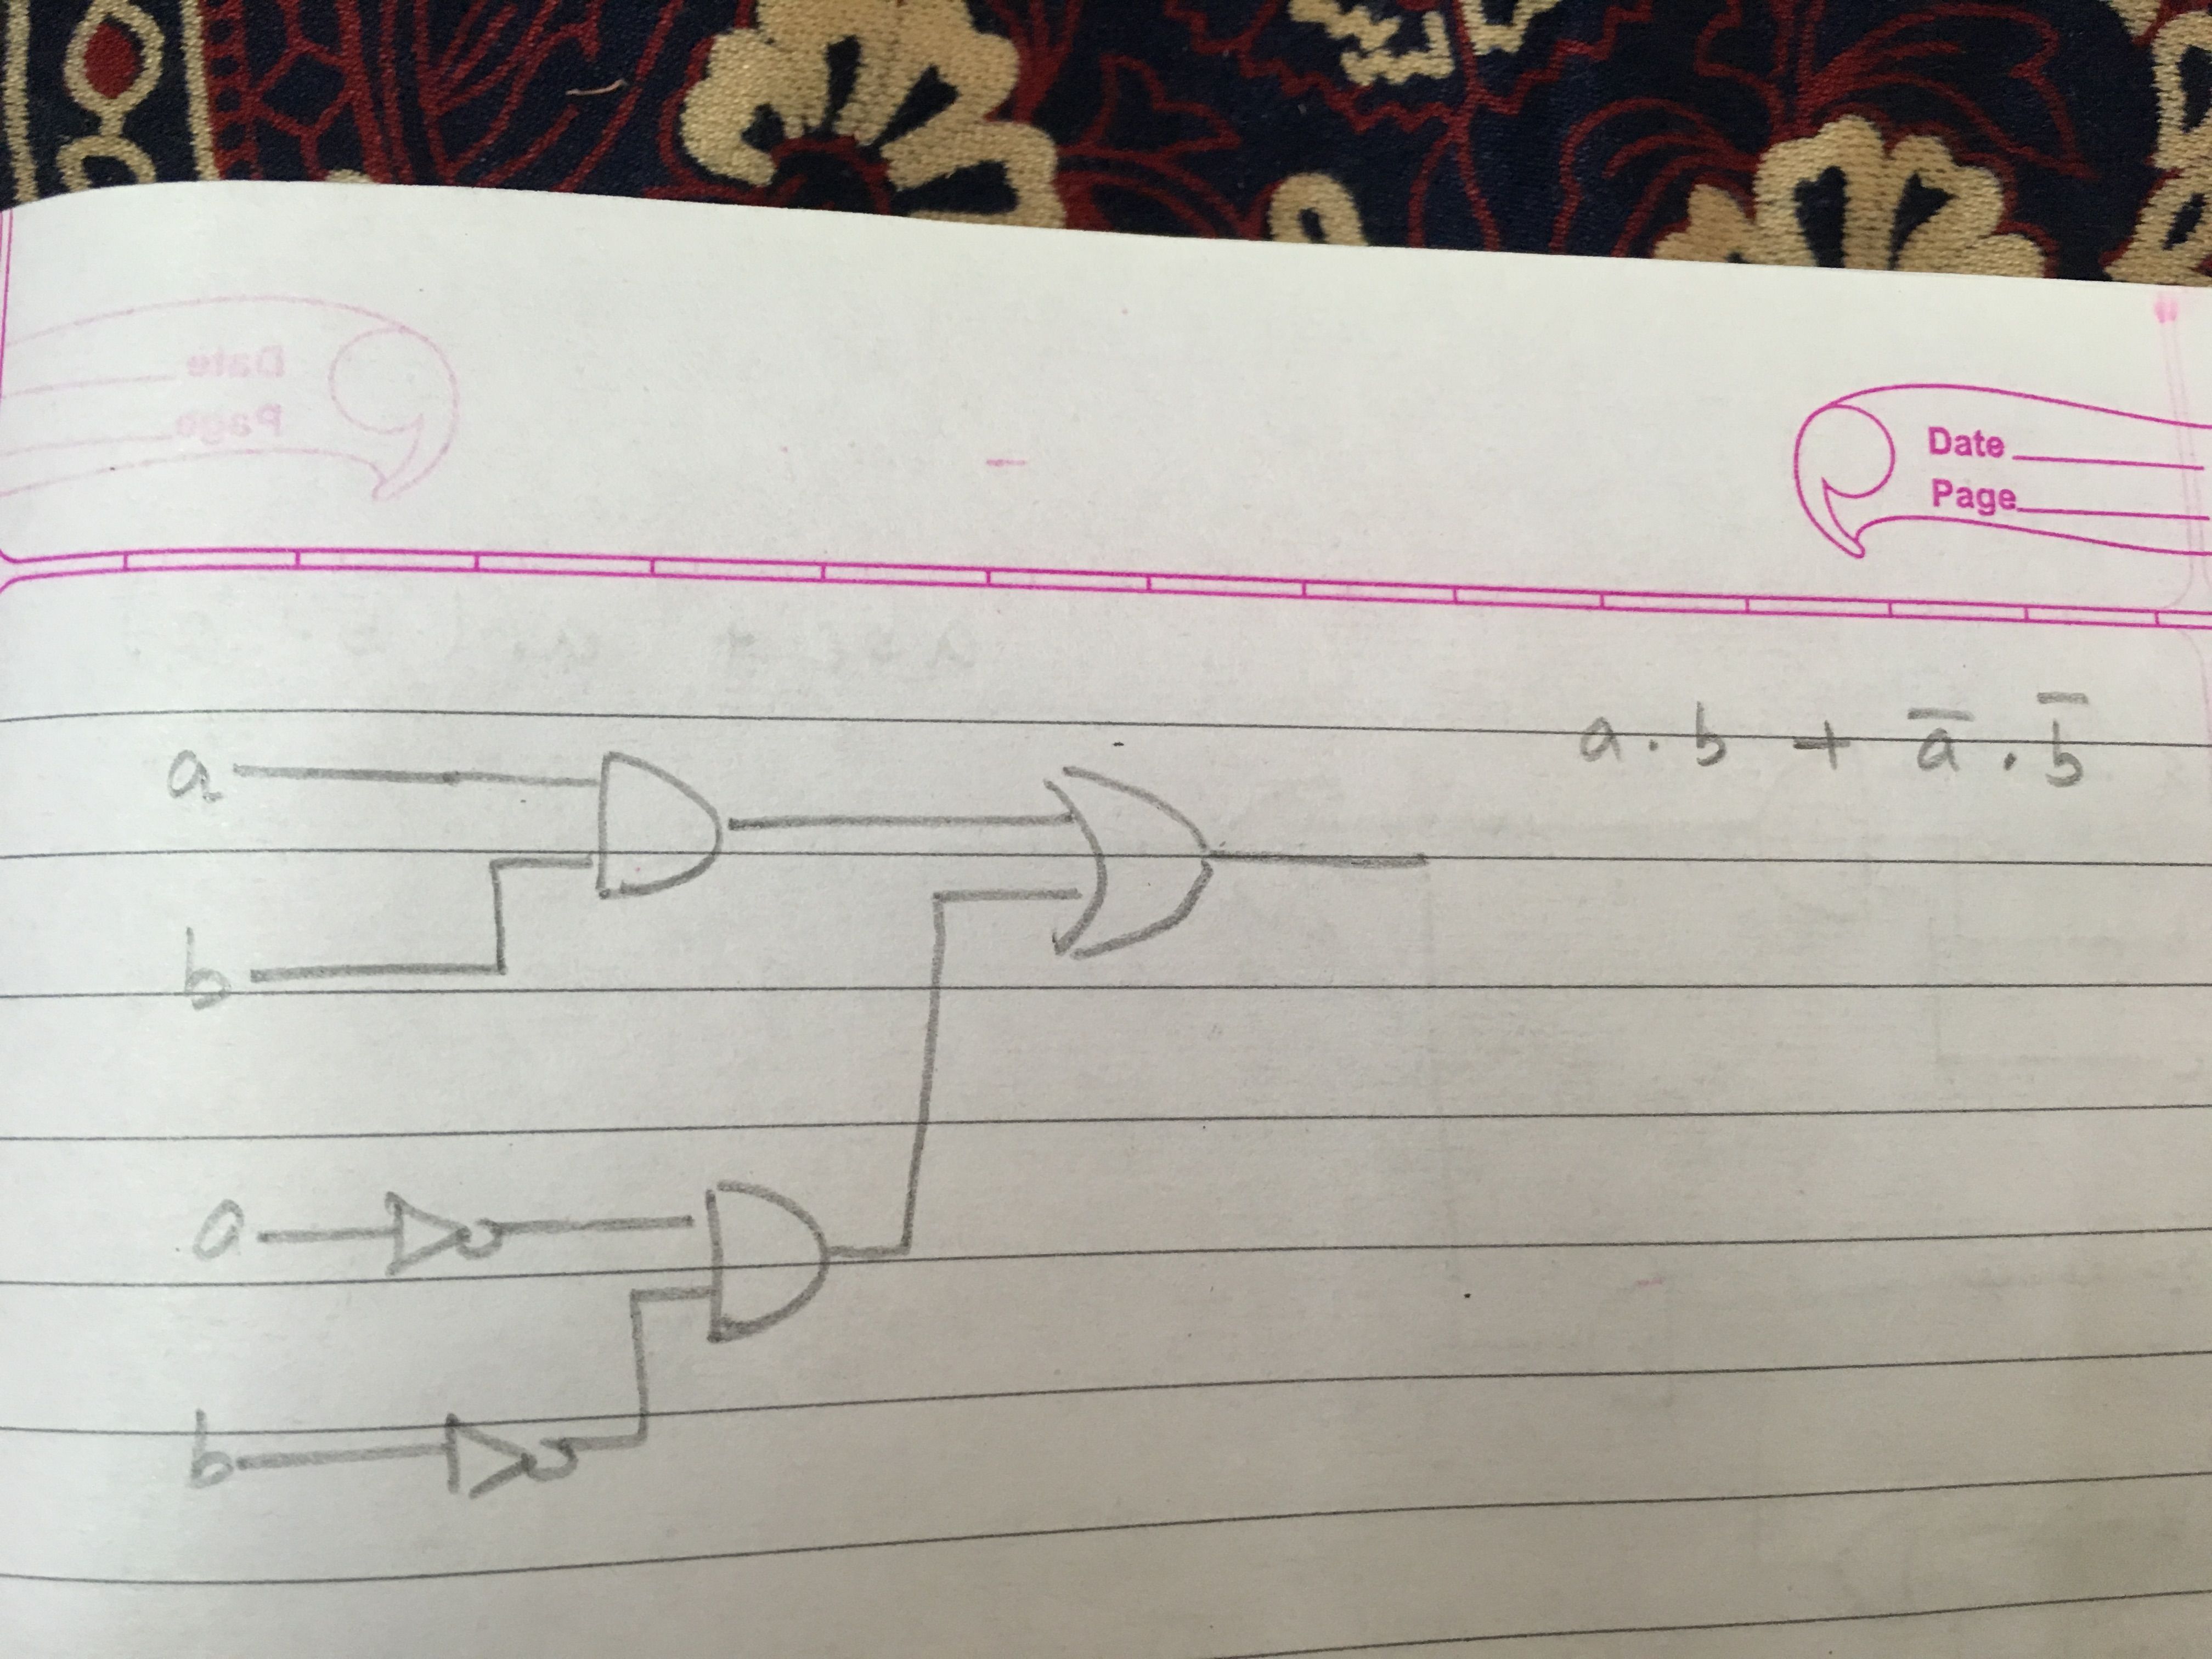and: (542, 720, 761, 939), (667, 1155, 864, 1380)
not: (406, 1394, 599, 1535), (354, 1159, 529, 1309)
or: (991, 735, 1244, 983)
